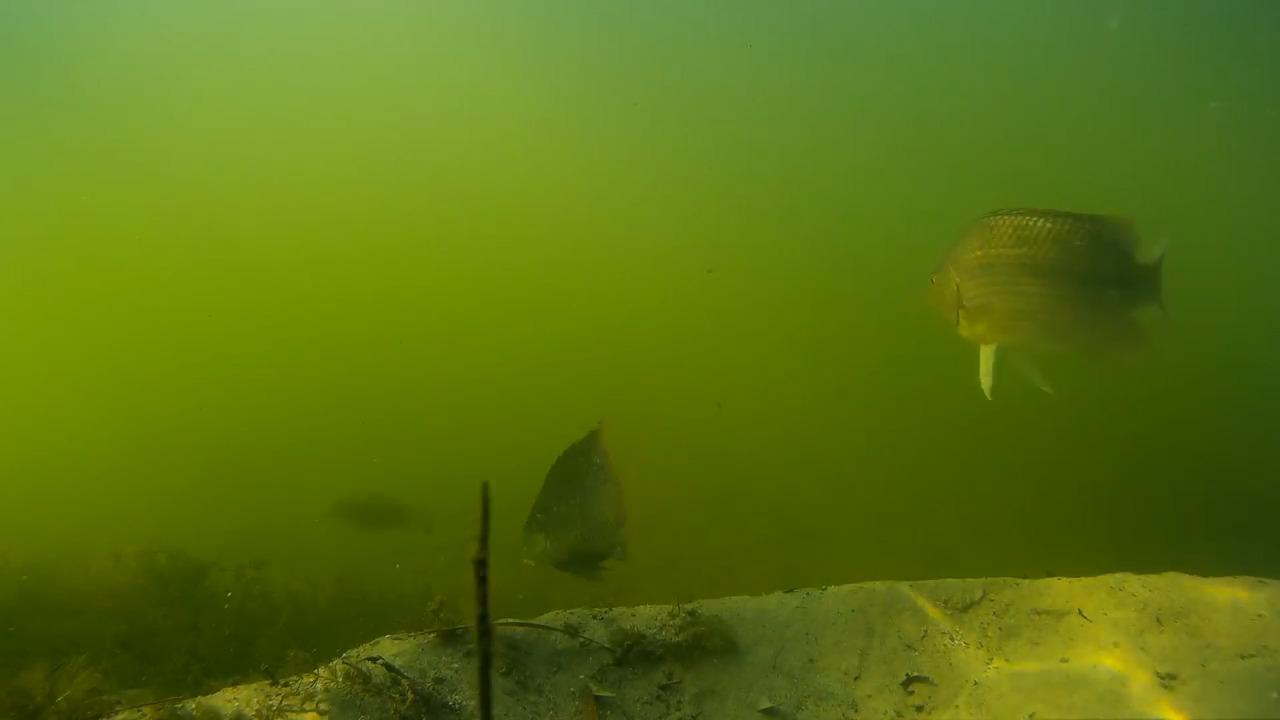Tilapia: (917, 208, 1182, 412), (521, 426, 640, 586), (337, 472, 434, 542)
